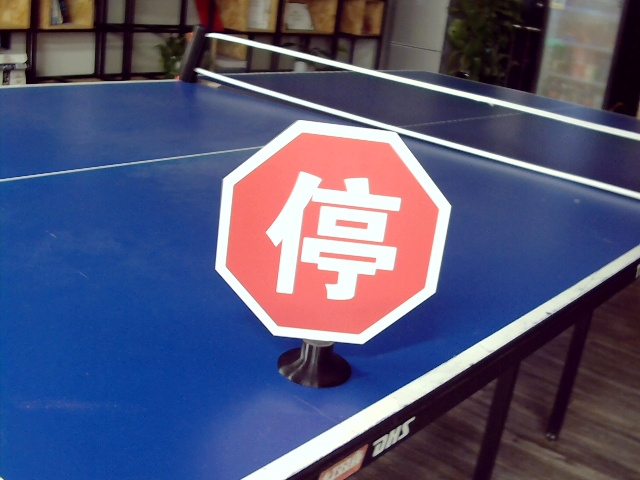stop: (264, 173, 399, 296)
